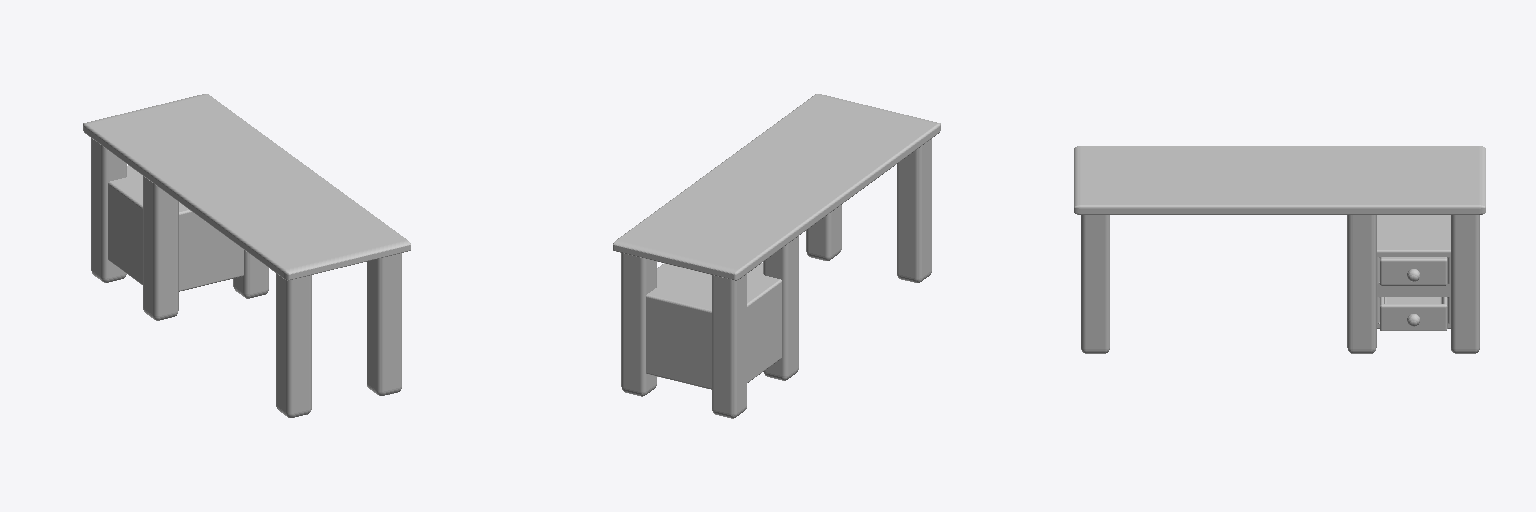
The model's file is simple_desk_A.obj.
The picture shows the model from 3 angles: view 1: azimuth 30°, elevation 25°; view 2: azimuth 150°, elevation 25°; view 3: azimuth 270°, elevation 25°; orthographic projection.
Parts seen in each view (by area): view 1: simple_desk_A; view 2: simple_desk_A; view 3: simple_desk_A.
Part boxes in pixels (x1,y1,x2,y2): simple_desk_A: (83, 94, 410, 417); simple_desk_A: (613, 94, 940, 418); simple_desk_A: (1074, 146, 1485, 353).
Bounding box in the file's own units: 0.8633 × 0.8736 × 2.15.